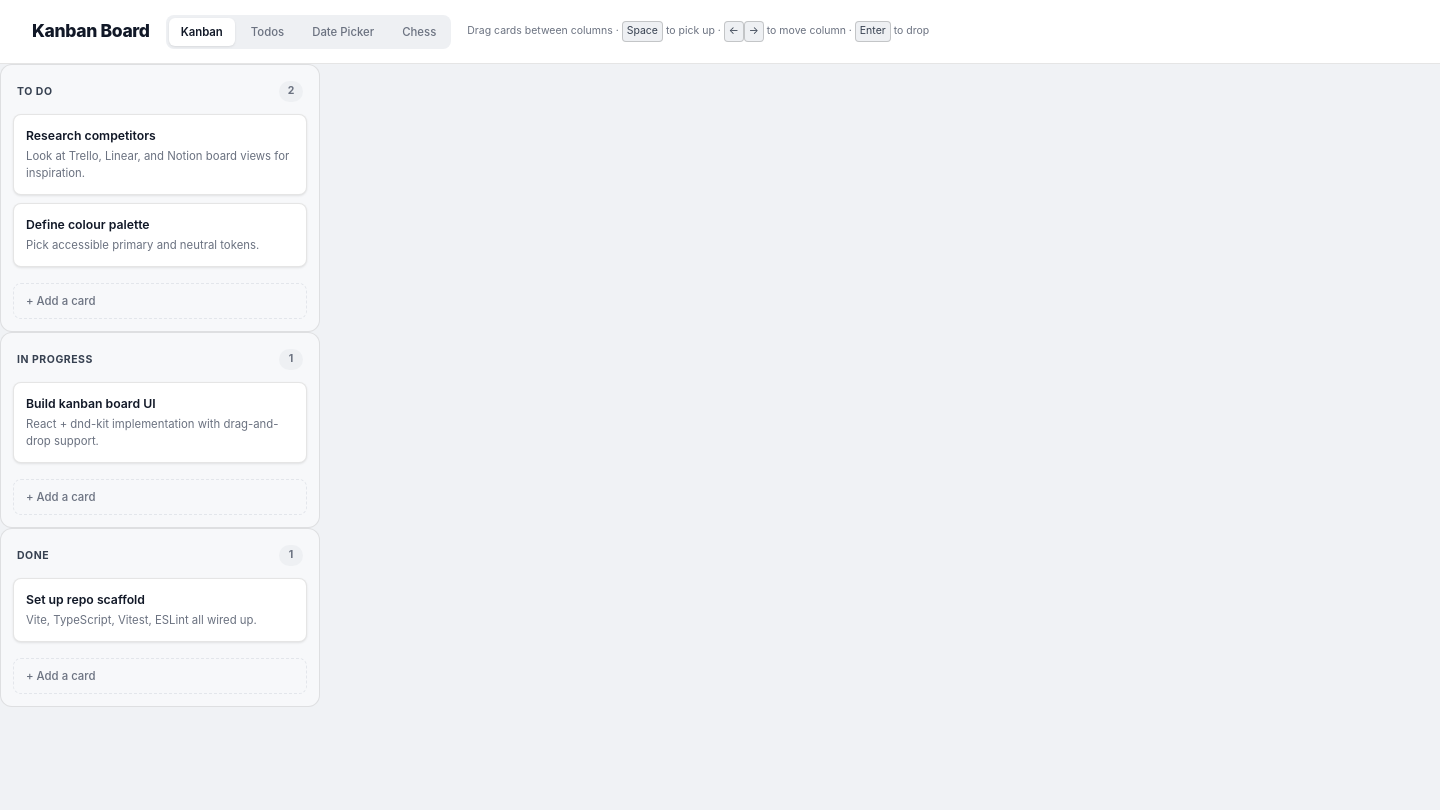
Test case: AC3 — inline add-card form › adds a card to the To Do column
Click the button with aria-label "add card to to do": (61, 301) [13,283,307,319]
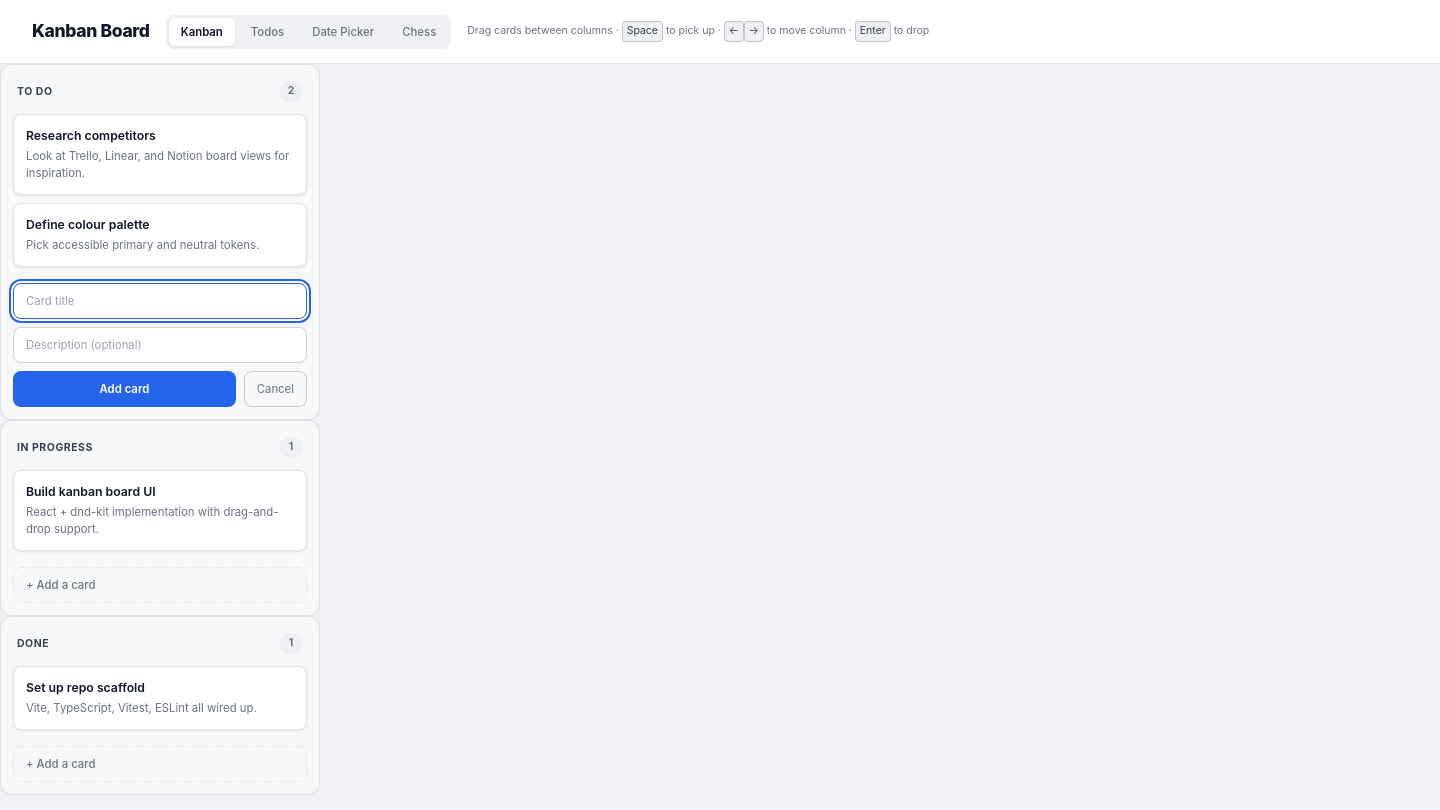
In the field labelled "Card title": (160, 301) [13,283,307,319], type "New test card"
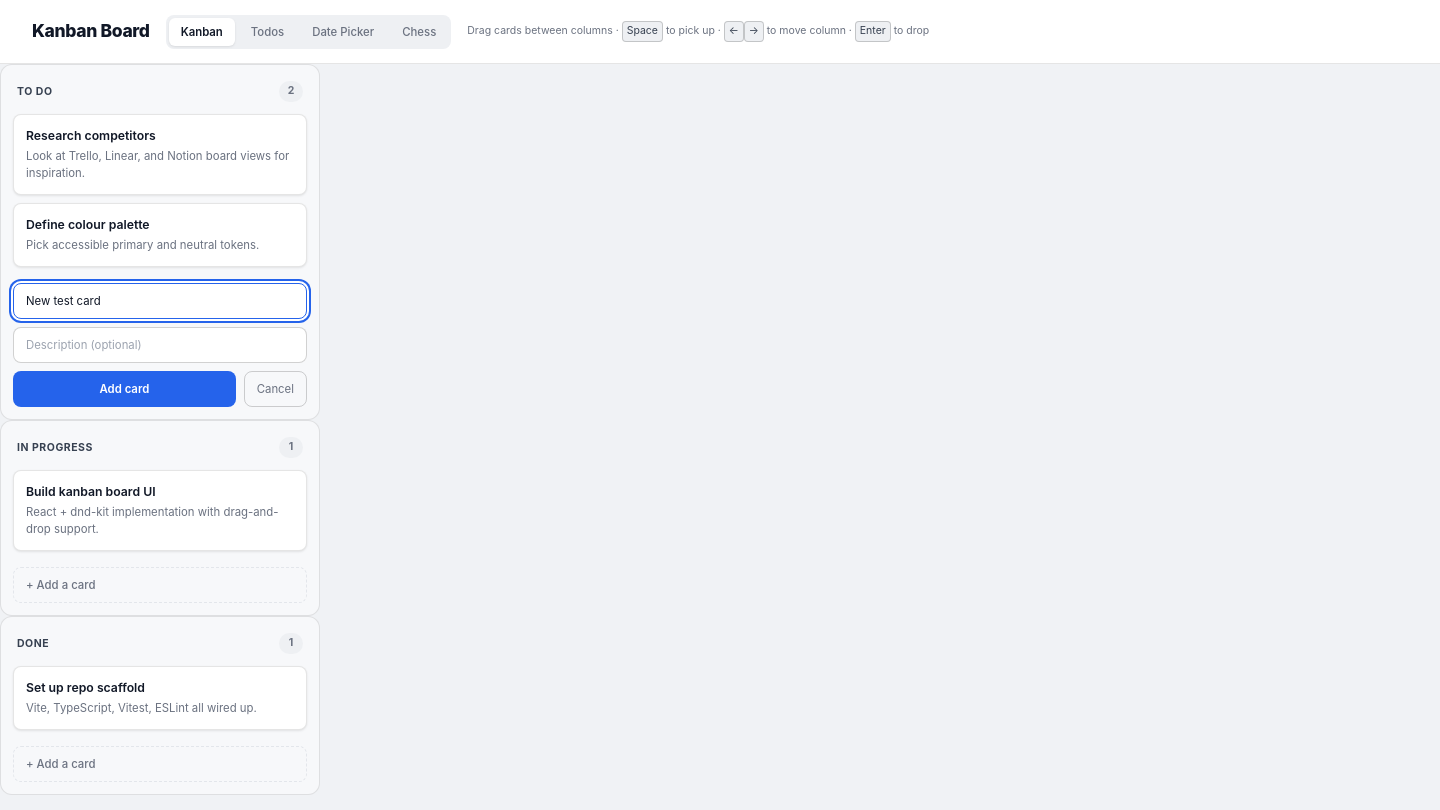
Click the button "Add card": (124, 389) [13,371,236,407]
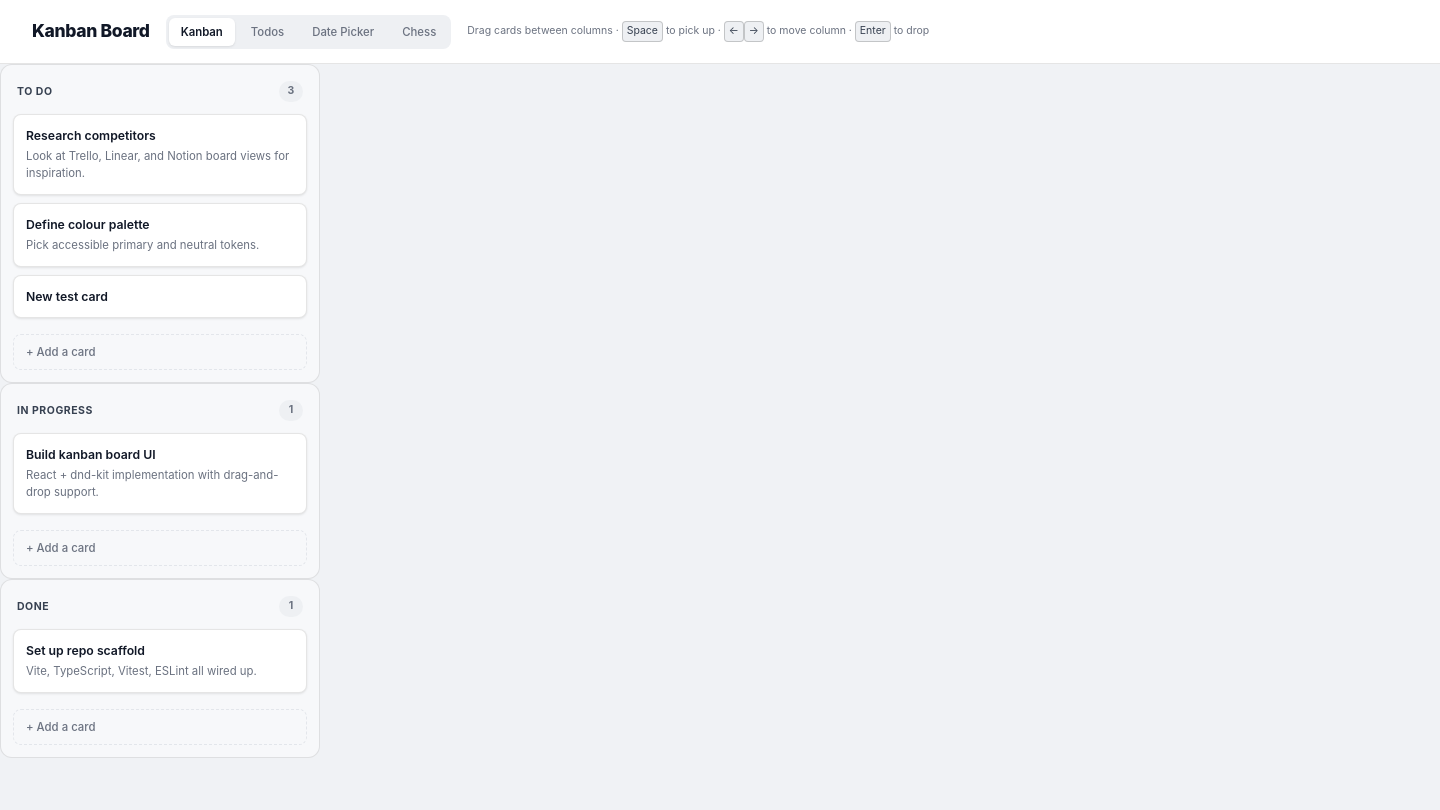
Expected: the text "New test card" is shown, [26,289,108,304]
